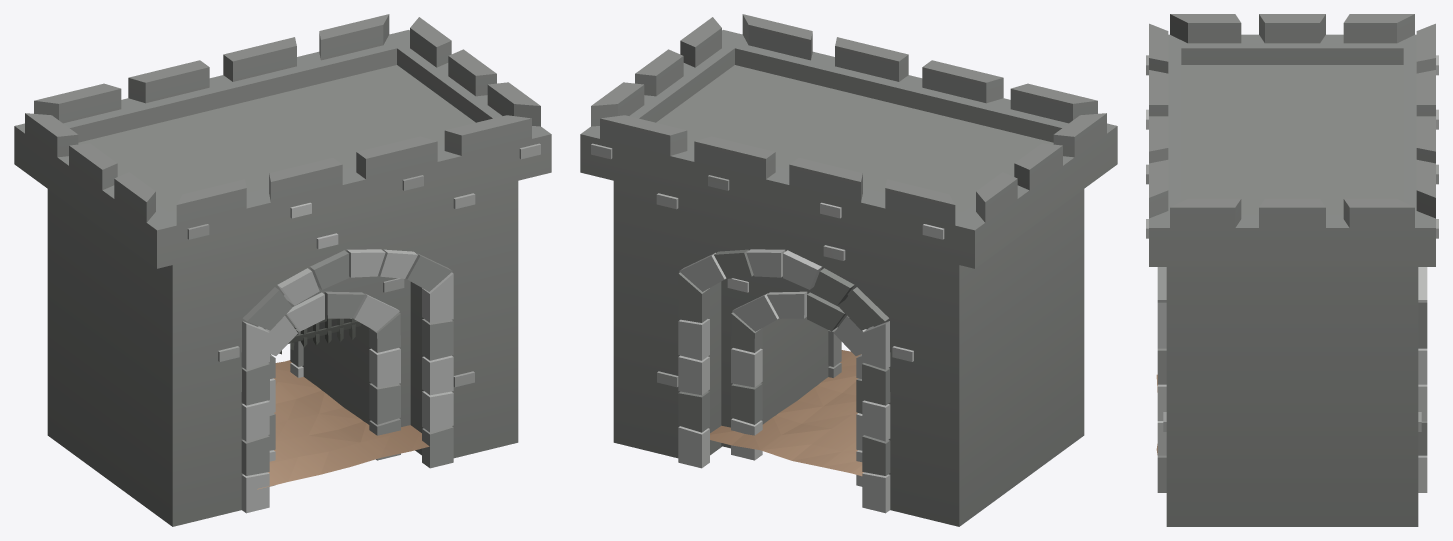
3 renders of one model, left to right at view 1: azimuth 30°, elevation 25°; view 2: azimuth 150°, elevation 25°; view 3: azimuth 270°, elevation 25°, orthographic.
Visible parts, largest first — view 1: Tower4_0; view 2: Tower4_0; view 3: Tower4_0.
Boxes of the visible parts, bbox=[...] form: Tower4_0: bbox=[14, 14, 551, 526]; Tower4_0: bbox=[580, 14, 1117, 526]; Tower4_0: bbox=[1146, 14, 1438, 526].
Size of the model in its own units: 19.94 by 16.03 by 12.75.
Materials: 1 (1 with a texture image).
